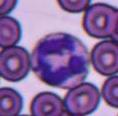N: (31, 32, 88, 88)
